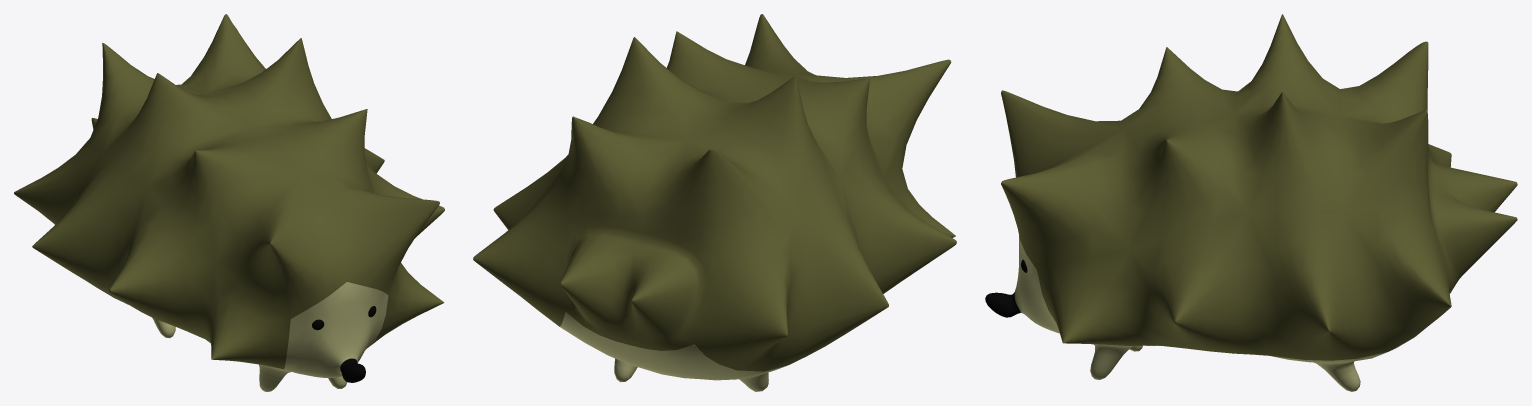
The model's file is Hedgehog.fbx.
3 views of the same model, side by side, from view 1: azimuth 30°, elevation 25°; view 2: azimuth 150°, elevation 25°; view 3: azimuth 270°, elevation 25° (orthographic). The views are drawn at different scales.
Visible parts, largest first — view 1: pasted__pasted__pasted__pSphere23; view 2: pasted__pasted__pasted__pSphere23; view 3: pasted__pasted__pasted__pSphere23.
Boxes of the visible parts, box(x1,y1,x2,y2) form: pasted__pasted__pasted__pSphere23: box(14, 14, 444, 391); pasted__pasted__pasted__pSphere23: box(473, 14, 956, 391); pasted__pasted__pasted__pSphere23: box(985, 14, 1517, 391).
Size of the model in its own units: 1.85 by 1.41 by 2.17.
